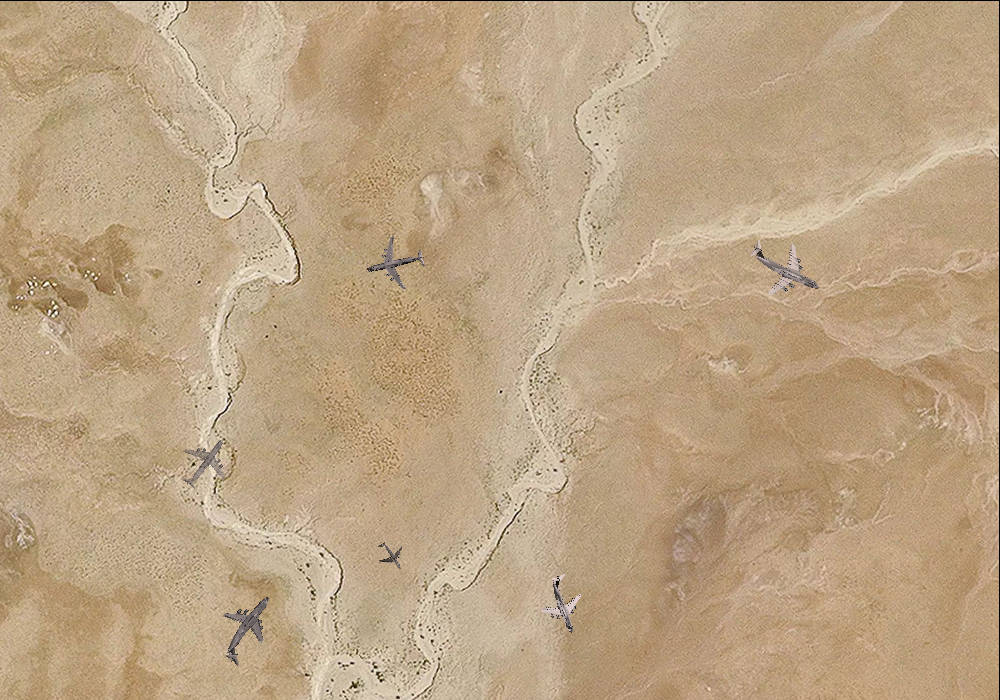plane: (735, 219, 836, 315), (200, 580, 296, 678), (165, 423, 243, 502), (529, 567, 599, 641), (360, 229, 430, 296), (369, 534, 412, 577)
